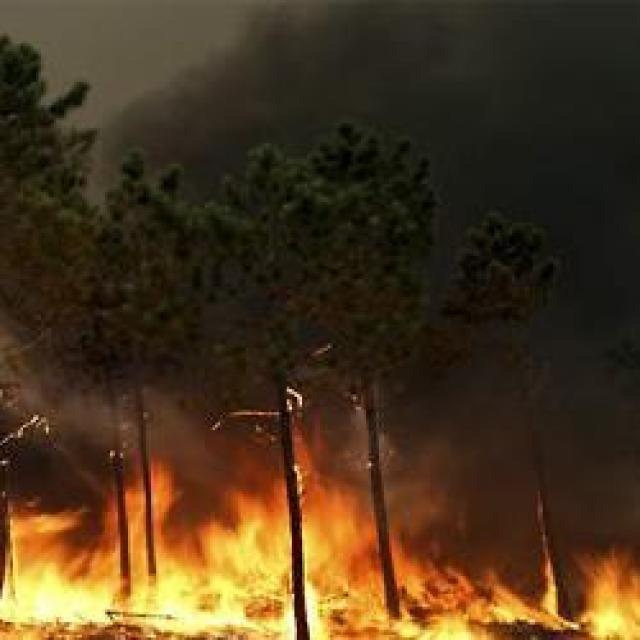Fire: (0, 484, 640, 640)
Smoke: (95, 6, 640, 162)
